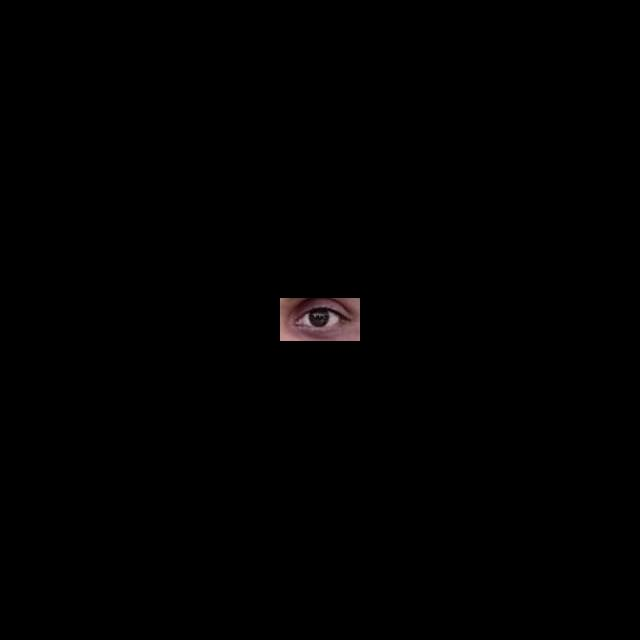eye: (301, 309, 340, 328)
iris: (309, 310, 329, 327)
